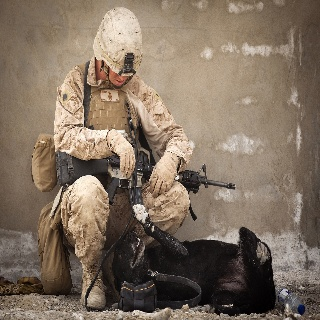rifle: (54, 140, 239, 207)
